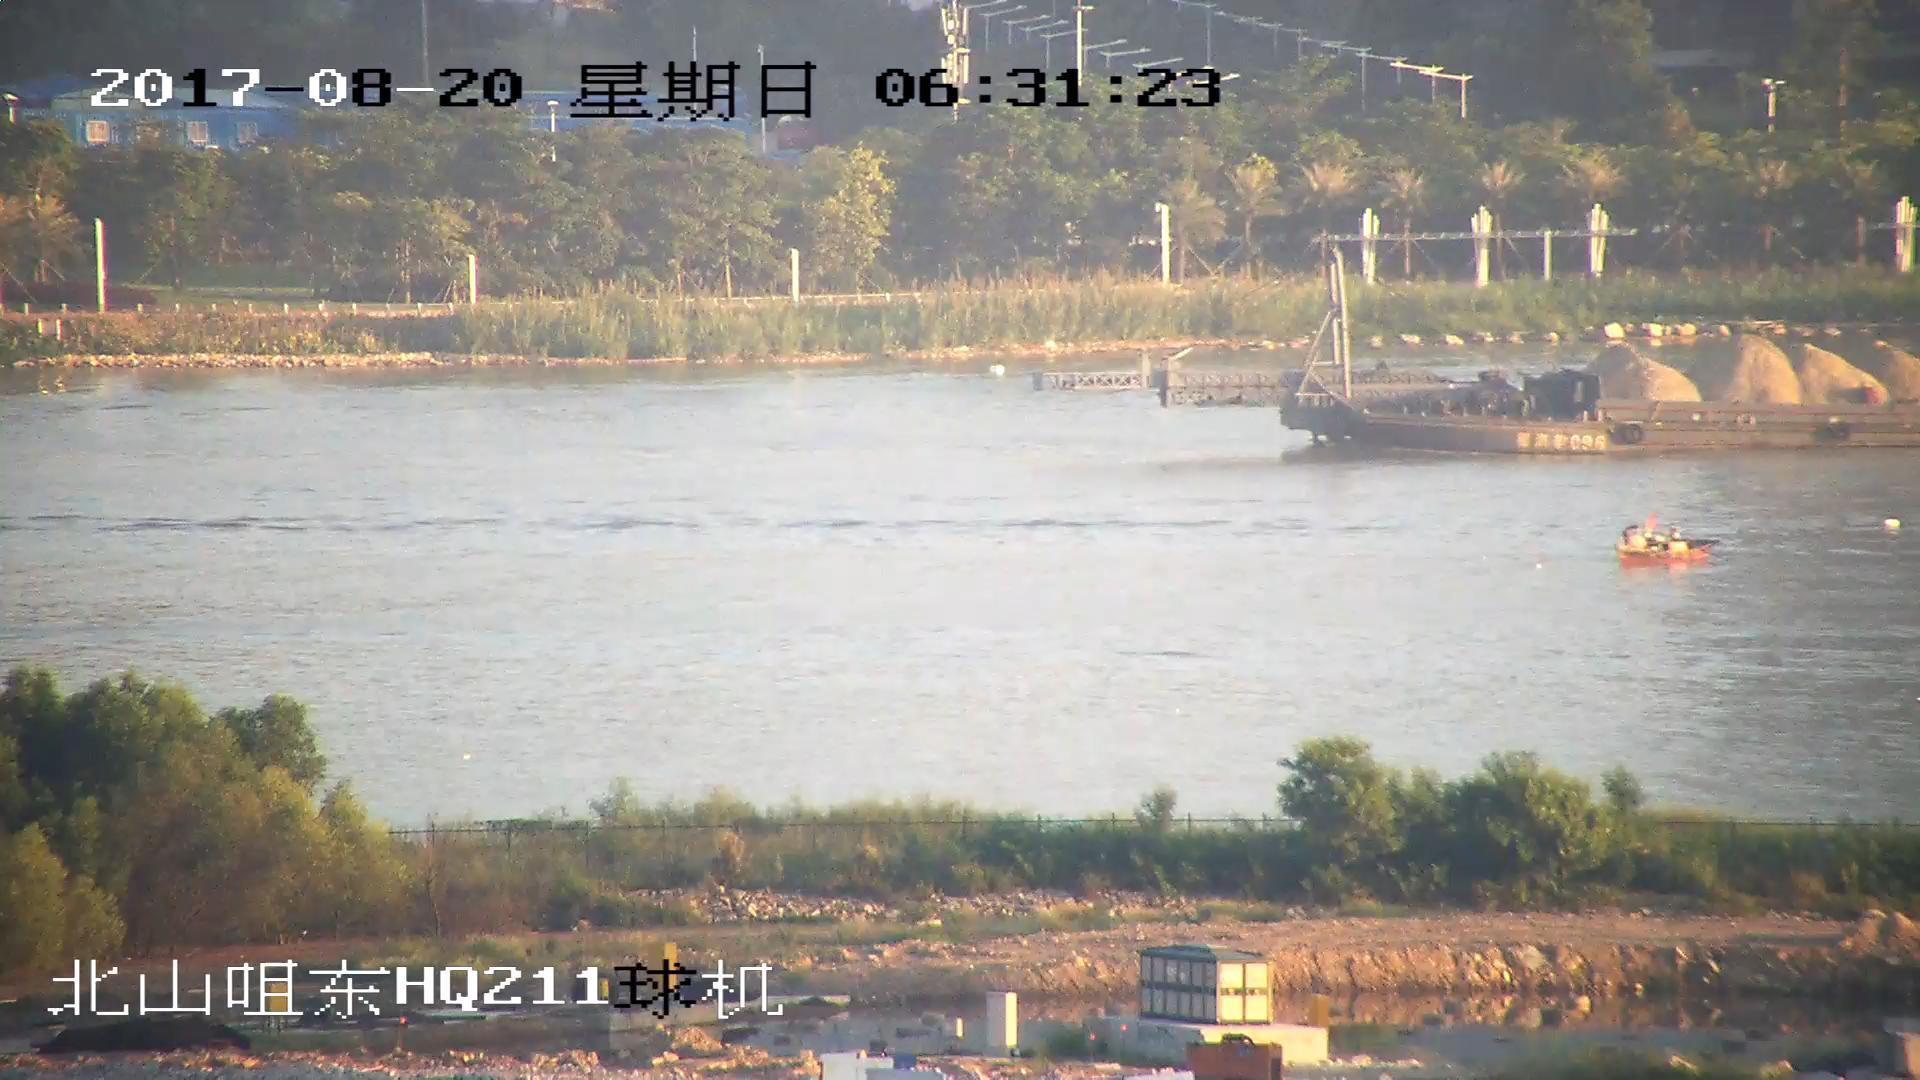Ship: (1027, 251, 1920, 459), (1611, 516, 1725, 566)
